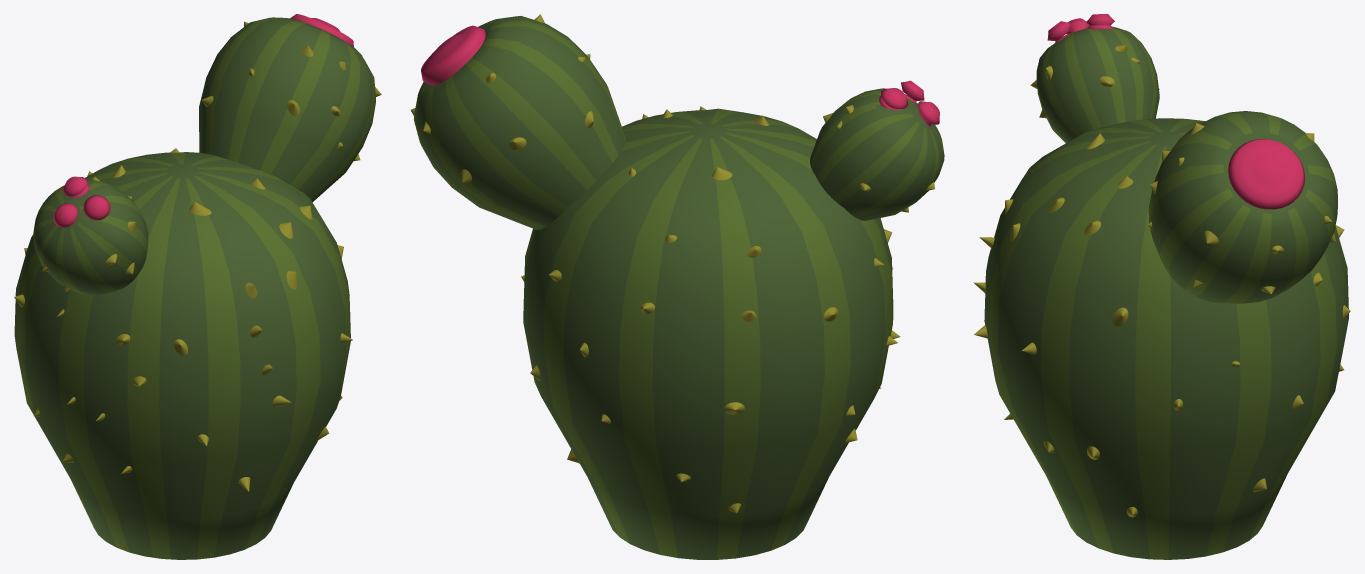
File: PetitCactus.fbx
3 renders of one model, left to right at view 1: azimuth 30°, elevation 25°; view 2: azimuth 150°, elevation 25°; view 3: azimuth 270°, elevation 25°, orthographic. The views are drawn at different scales.
Visible parts, largest first — view 1: PetitCactus; view 2: PetitCactus; view 3: PetitCactus.
Boxes of the visible parts, box(x1,y1,x2,y2) form: PetitCactus: box(14, 14, 381, 559); PetitCactus: box(410, 14, 944, 559); PetitCactus: box(973, 14, 1350, 559).
Bounding box in the file's own units: 110 × 117 × 84.05.
